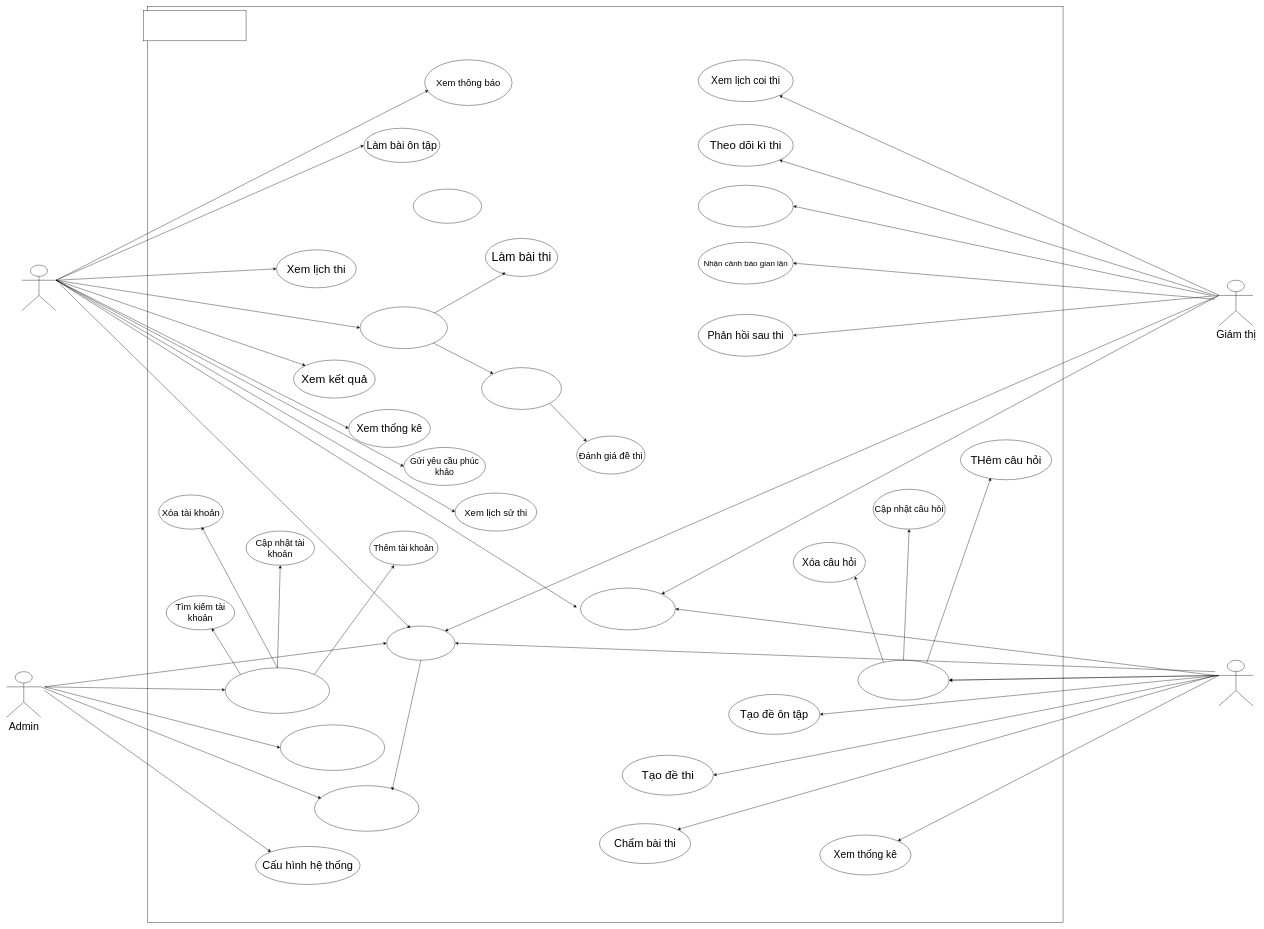
Some shapes in this 1264 by 929 pixel diagram are drawn without their labels. The shapes that lost their labels are listed below. From the top down, each one's centre as x and y in pixels, then its label:
At (194,25): "Hệ thông khảo thí thông minh".
At (447,206): "Xem hướng dẫn thi".
At (745,206): "Xử lý, ghi nhận biển bản thi điện tử".
At (38,288): "Thí sinh".
At (403,327): "Tham gia thi".
At (521,388): "Nộp bài thi".
At (627,609): "Đổi mật khẩu".
At (420,643): "Đăng nhập".
At (277,690): "Quản lý tài khoản người dùng".
At (903,680): "Quản lý ngân hàng câu hỏi".
At (1235,683): "Giảng viên".
At (332,747): "Phân quyền người dùng".
At (366,808): "Khôi phục mật khẩu, khóa tài khoản".
